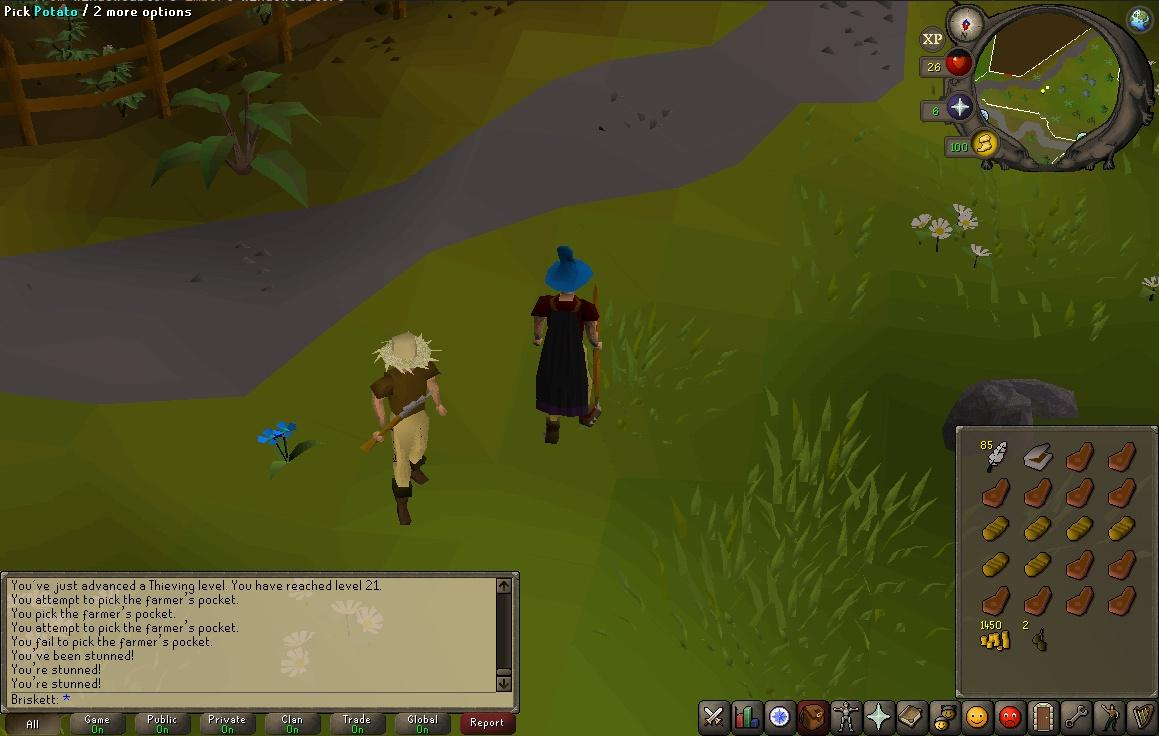Farmer: (367, 331, 448, 526)
